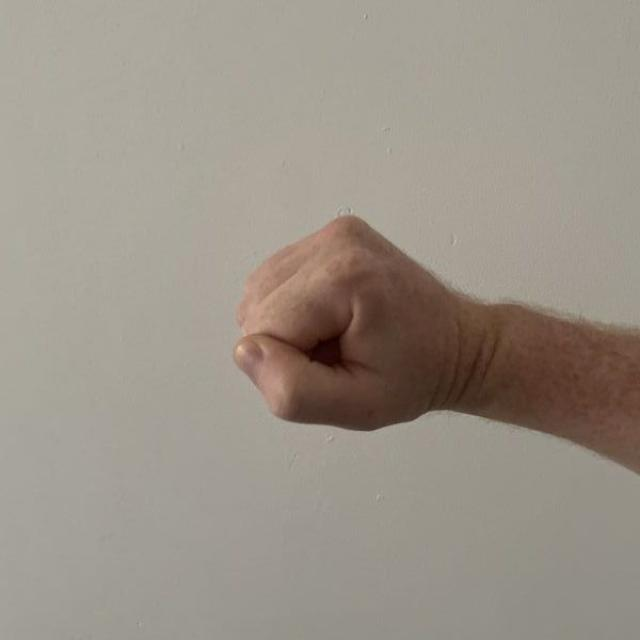rock: (230, 210, 527, 436)
